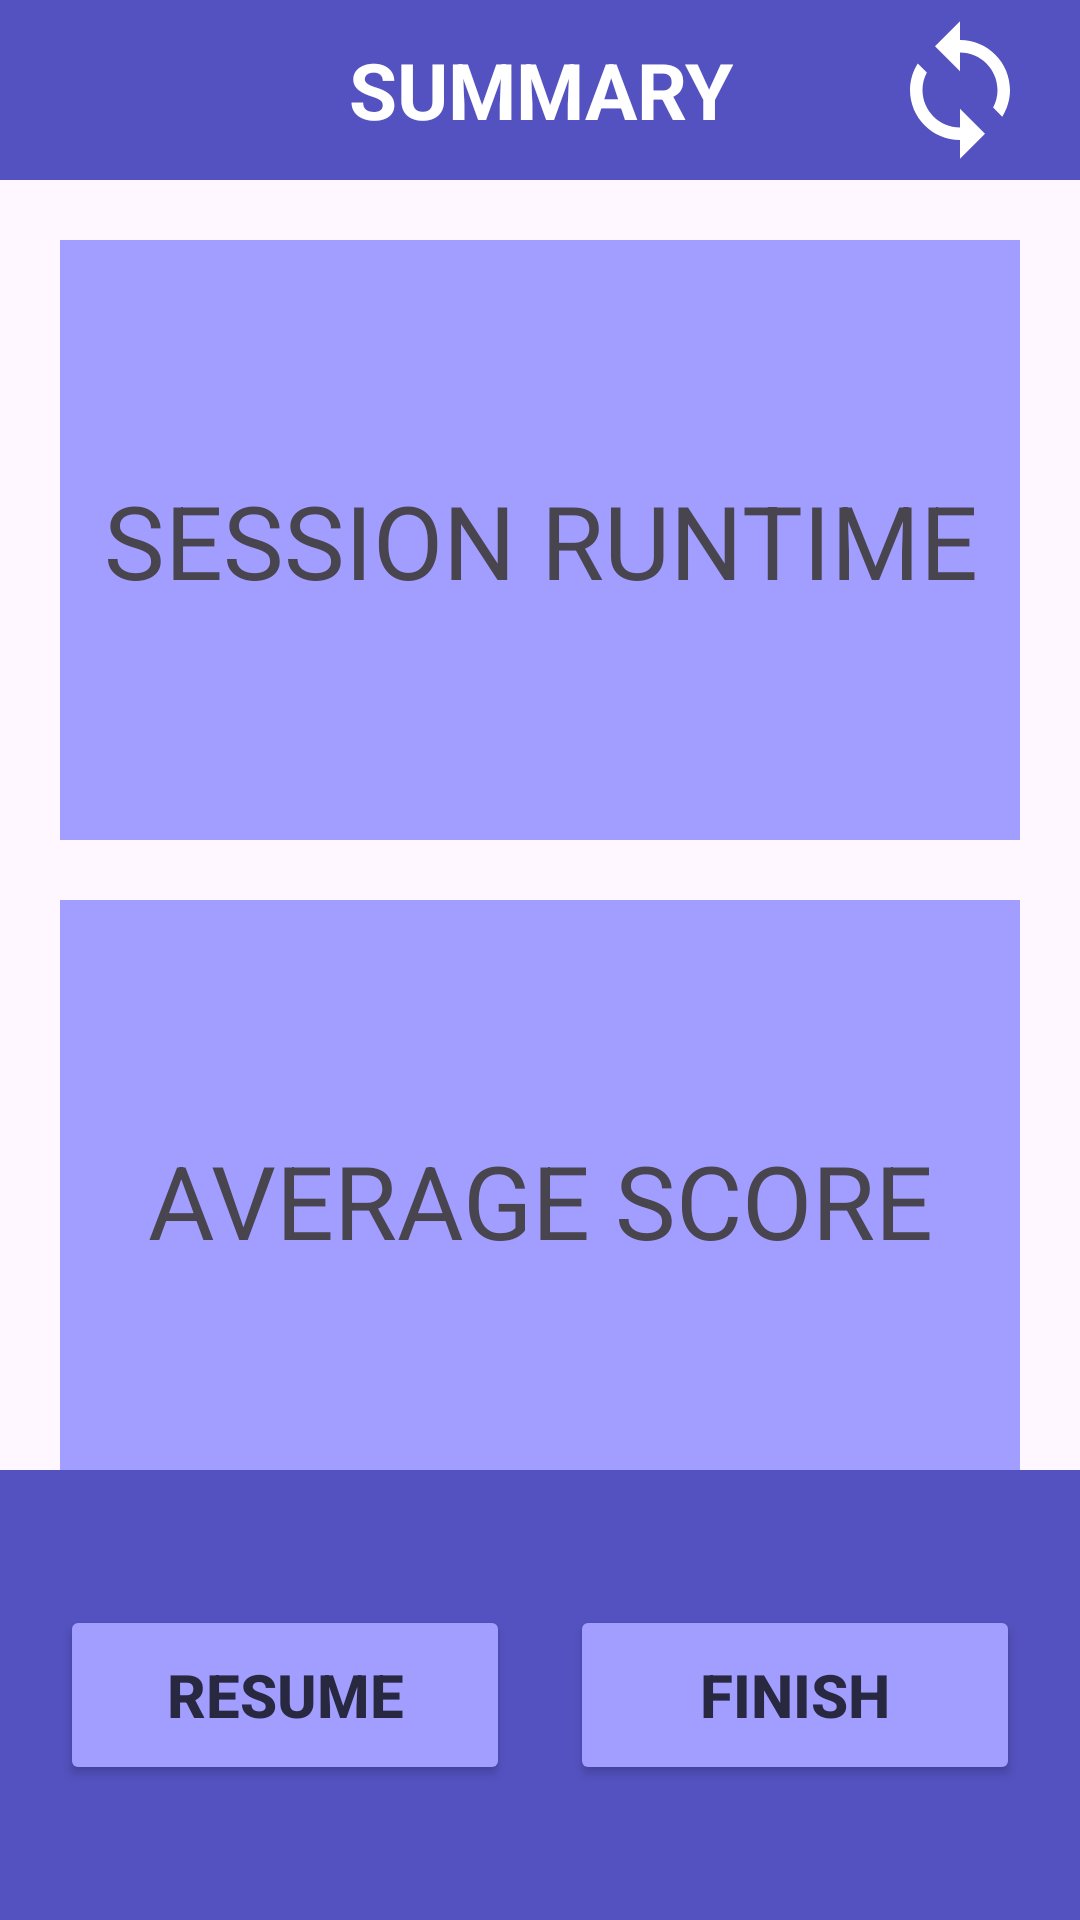

Icon bounding boxes for this 1080 × 1920 phone screenshot, format (x1, y1, x2, y2):
Recalibrate Device: (910, 21, 1010, 159)
